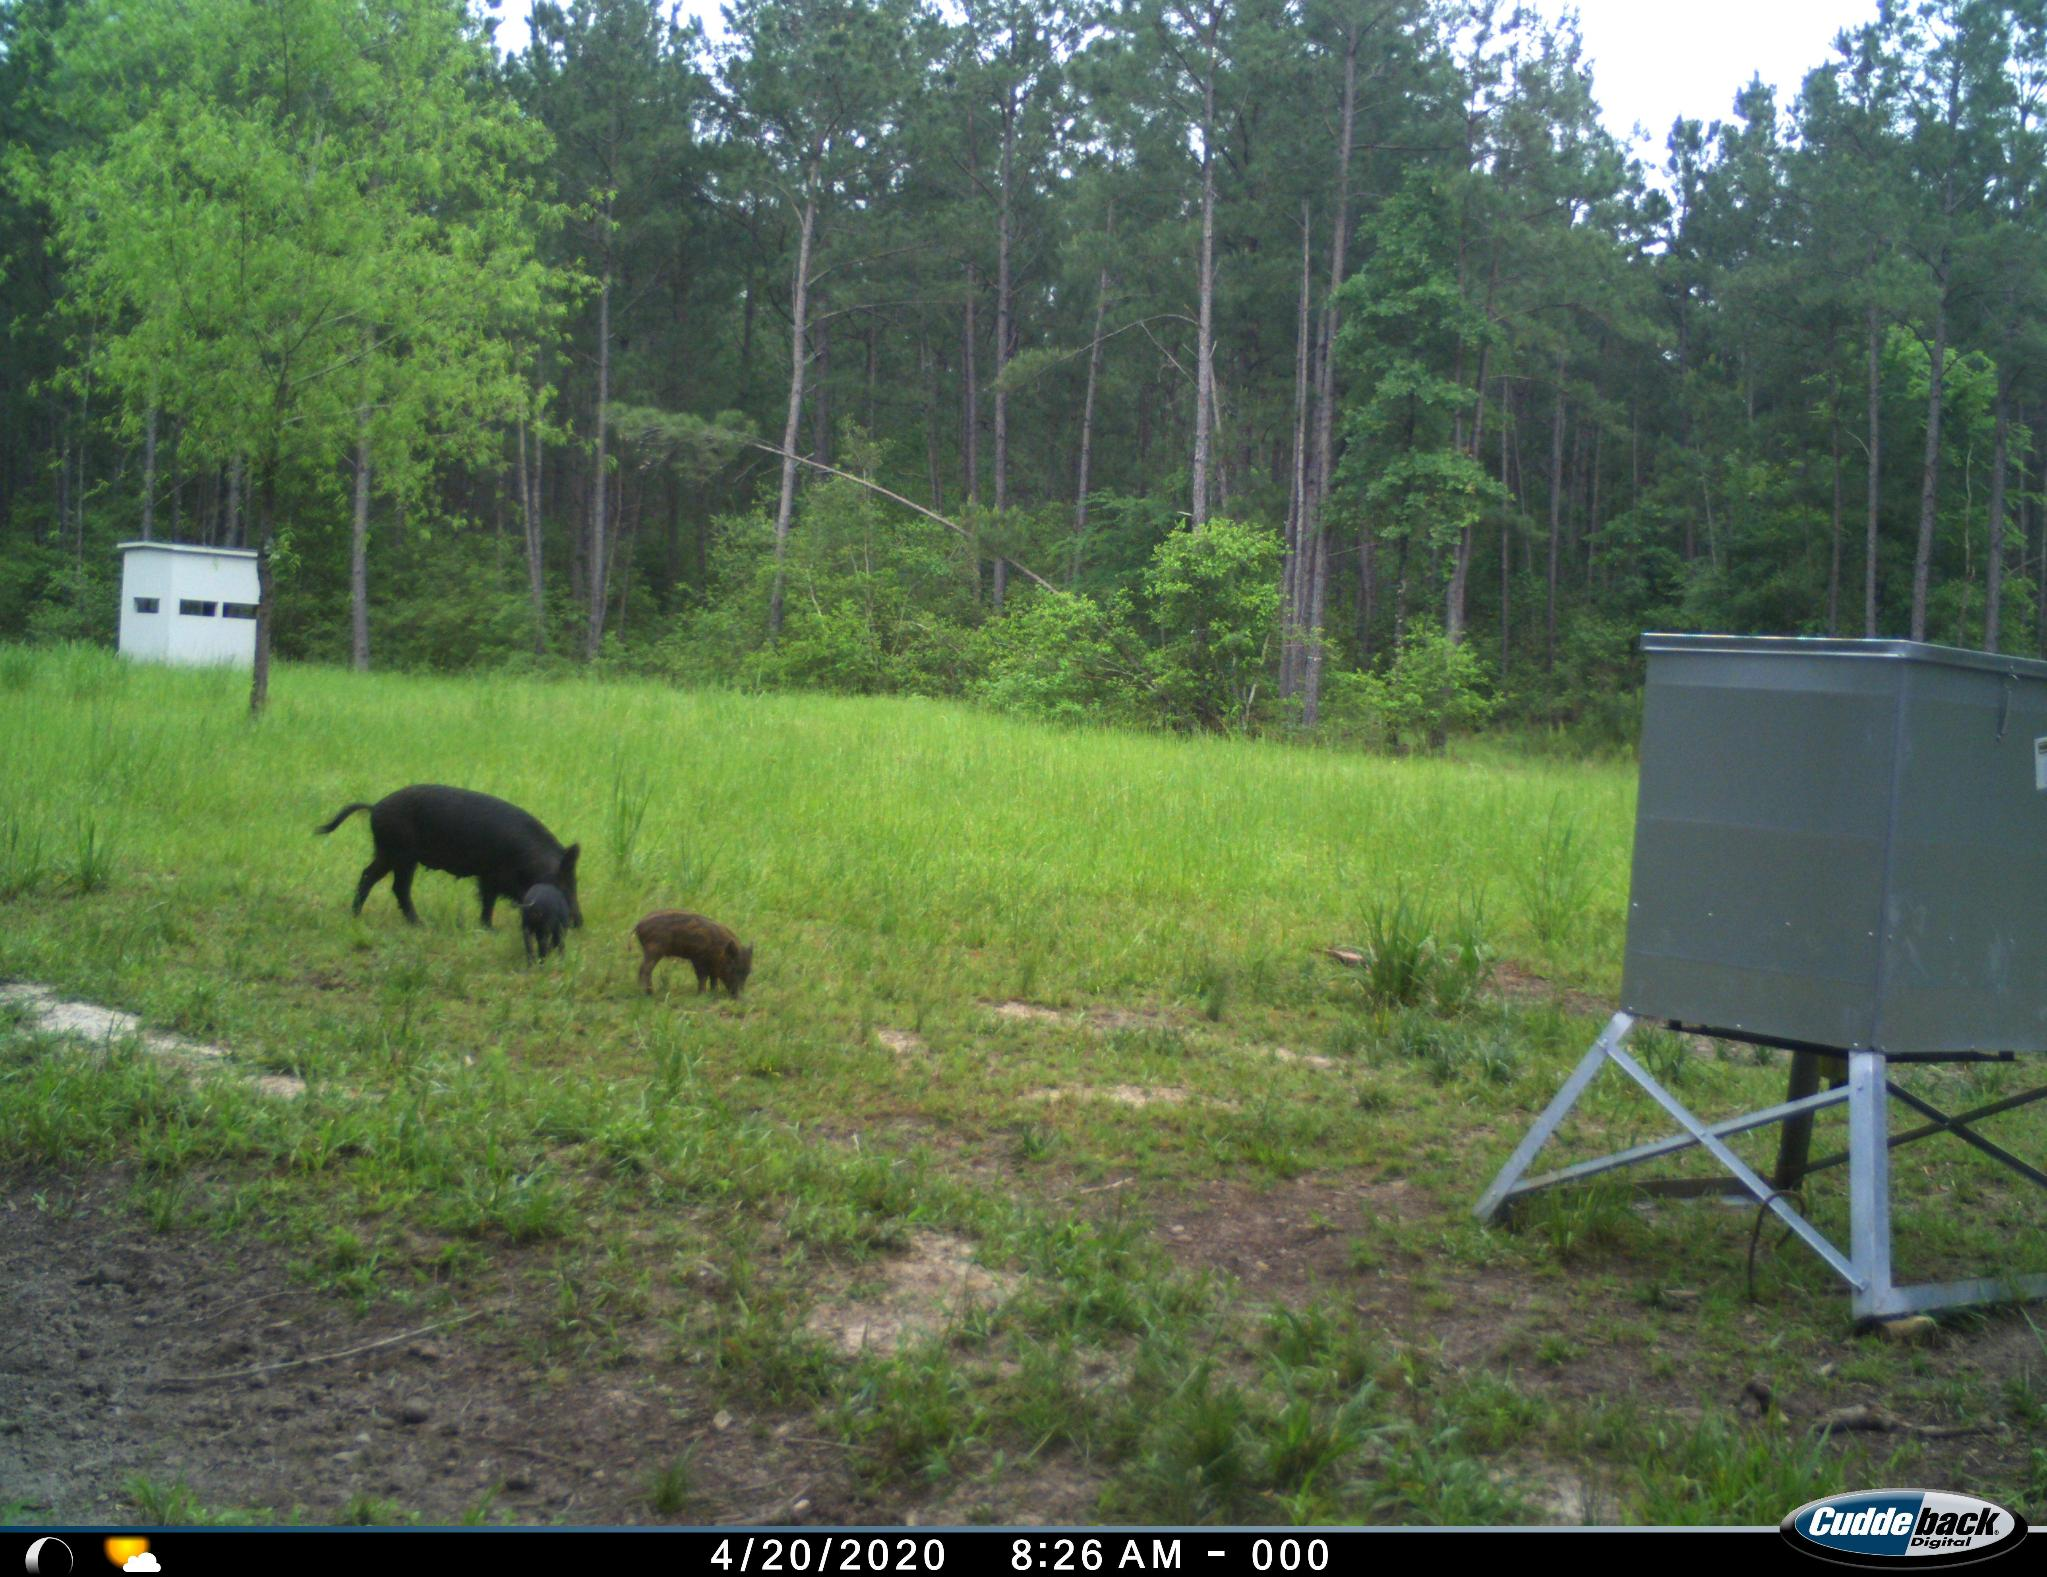Hog: (308, 780, 601, 959), (628, 908, 763, 1015), (503, 881, 575, 957)
